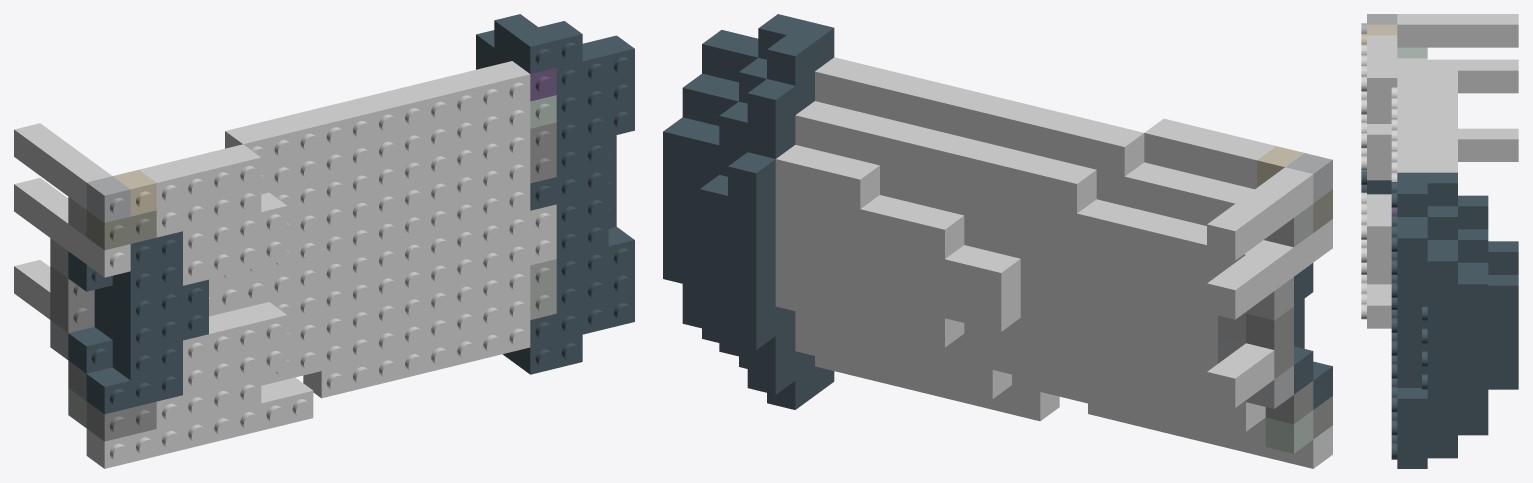
Rendered from full.glb.
The picture shows the model from 3 angles, left to right: view 1: azimuth 30°, elevation 25°; view 2: azimuth 150°, elevation 25°; view 3: azimuth 270°, elevation 25°; orthographic projection. The views are drawn at different scales.
Parts seen in each view (by area): view 1: world; view 2: world; view 3: world.
Boxes of the visible parts, left/top/right/bottom form: world: left=14, top=14, right=634, bottom=468; world: left=663, top=14, right=1332, bottom=468; world: left=1361, top=14, right=1518, bottom=468.
Bounding box in the file's own units: 168 × 96 × 49.8.
